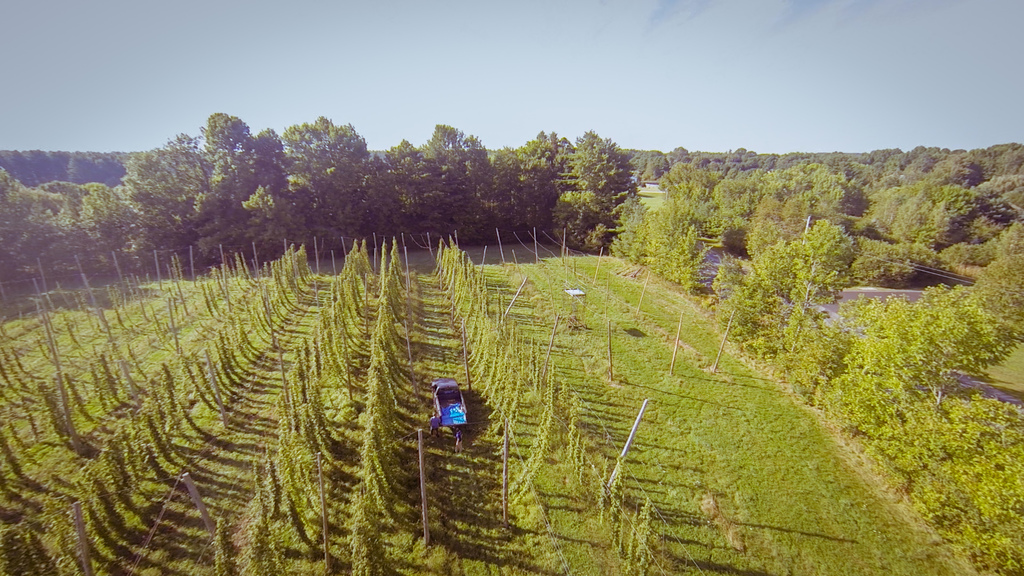Tree: (616, 141, 1024, 570), (0, 108, 641, 264)
